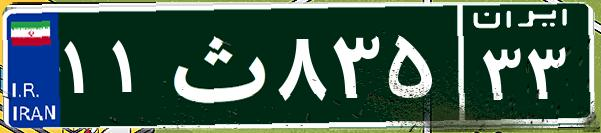1: (57, 26, 110, 107), (110, 28, 158, 105)
3: (330, 28, 385, 110), (475, 38, 525, 113), (525, 38, 570, 115)
5: (385, 28, 445, 110)
8: (273, 28, 330, 110)
ث: (158, 15, 273, 115)
